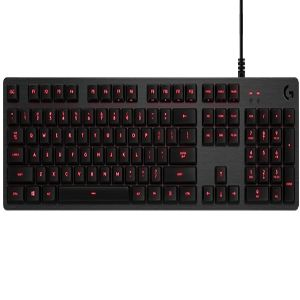keyboard: (3, 57, 300, 213)
